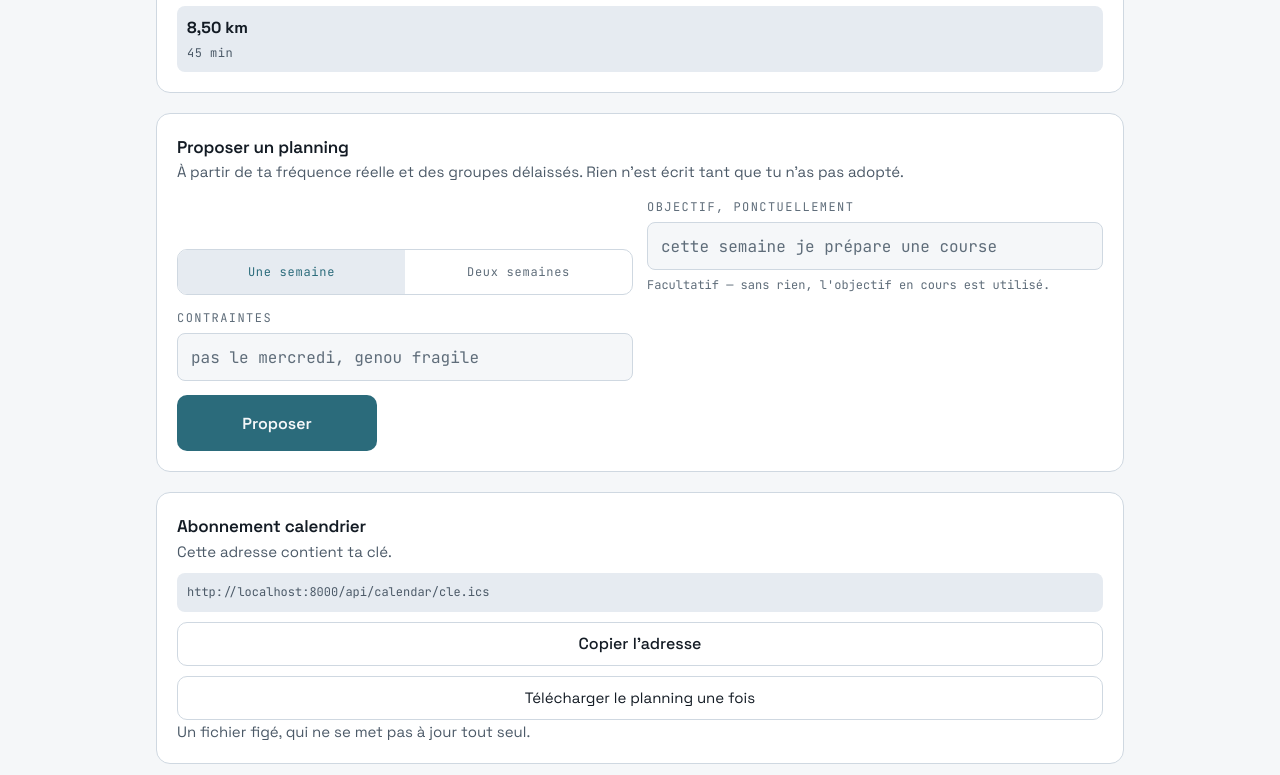
proposition assistée › montre sur quoi la proposition s’appuie
(page scrolled)
Click the button "Proposer" at (277, 424), box [177,396,377,452]
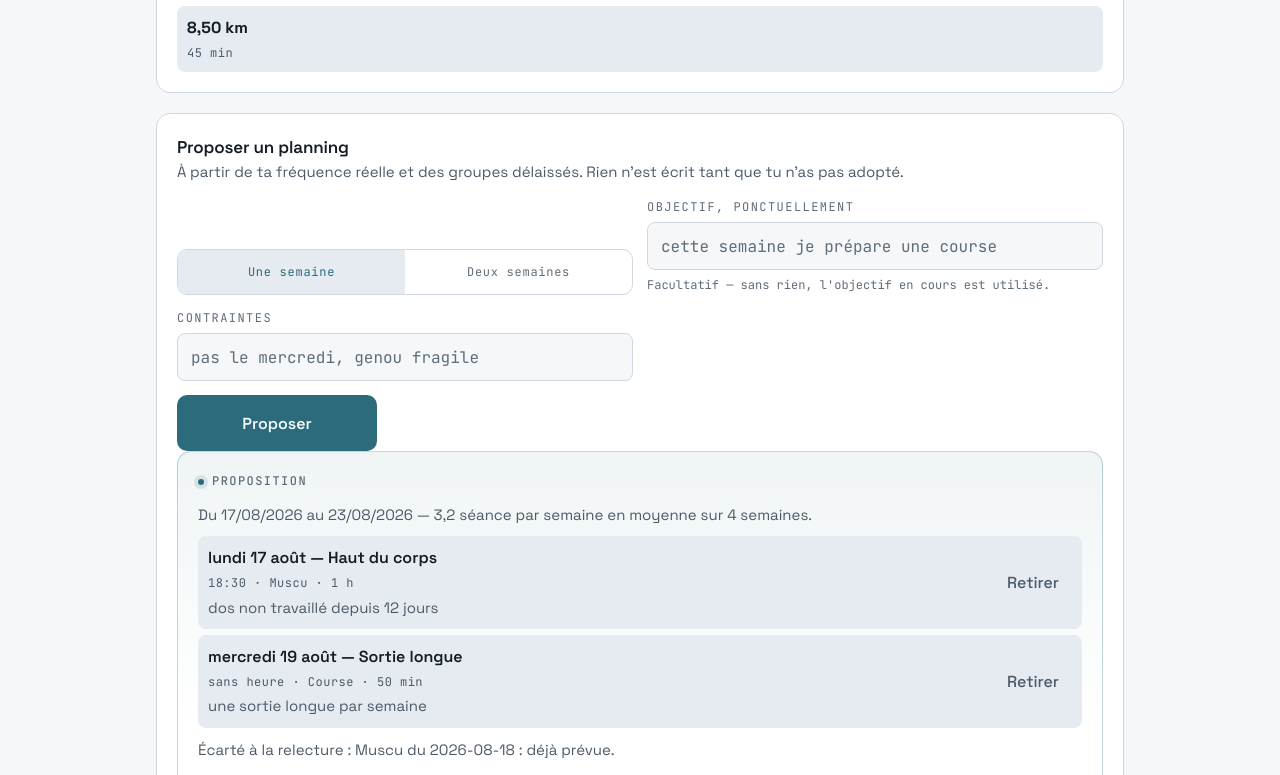
Now the text "dos non travaillé depuis 12 jours" is shown, box [208,596,438,619]
Now the text "Écarté à la relecture : Muscu du 2026-08-18 : déjà prévue." is shown, box [198,740,615,759]
